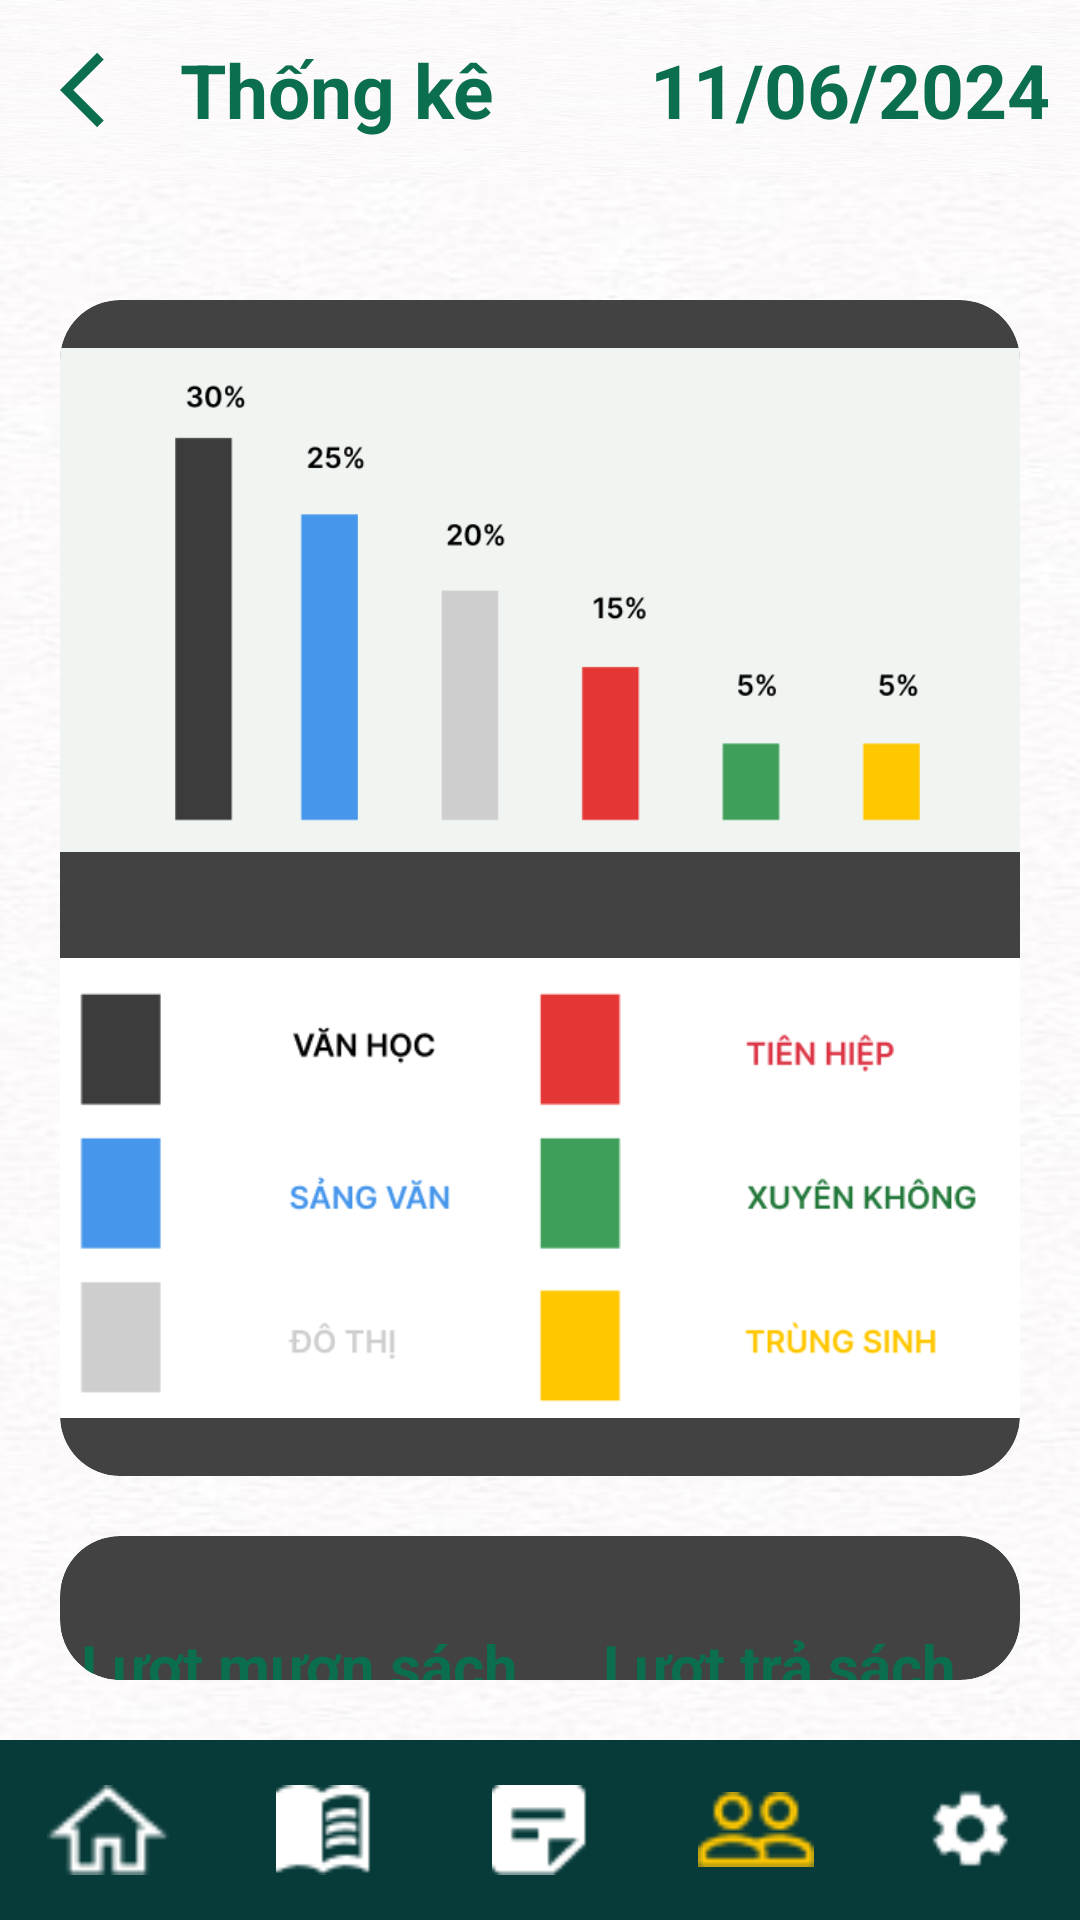

Icons on this 1080 x 1920 Android screen, each with its box as (x1, y1, x2, y2):
arrow back: (60, 53, 104, 127)
book: (276, 1785, 370, 1875)
homee: (47, 1785, 167, 1875)
phieumuon: (492, 1785, 586, 1875)
setting: (932, 1791, 1008, 1866)
